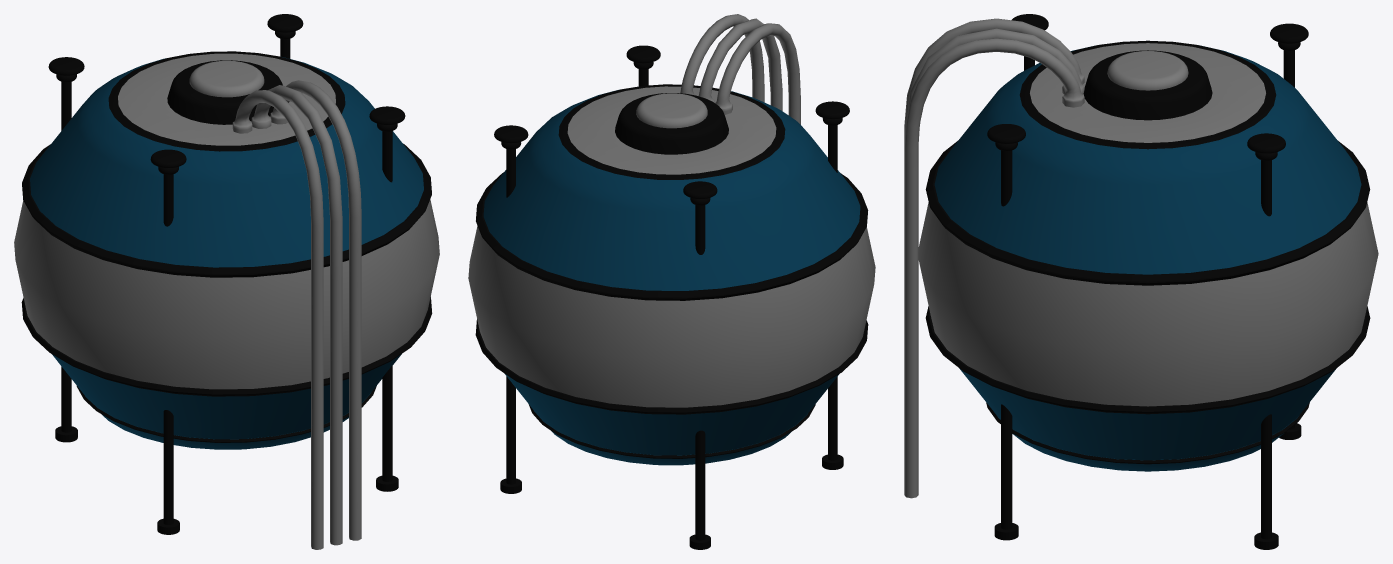
File: water_tower_4.fbx
3 renders of one model, left to right at view 1: azimuth 30°, elevation 25°; view 2: azimuth 150°, elevation 25°; view 3: azimuth 270°, elevation 25°, orthographic. The views are drawn at different scales.
Visible parts, largest first — view 1: Circle.032, BezierCurve.003, Cylinder.011, Cylinder.010; view 2: Circle.032, BezierCurve.003, Cylinder.010, Cylinder.011; view 3: Circle.032, BezierCurve.003, Cylinder.011, Cylinder.010.
Part boxes in pixels (x1,y1,x2,y2): Circle.032: [14, 51, 439, 449]; BezierCurve.003: [232, 80, 361, 549]; Cylinder.011: [48, 57, 405, 491]; Cylinder.010: [150, 14, 303, 534]; Circle.032: [468, 84, 875, 465]; BezierCurve.003: [680, 14, 800, 124]; Cylinder.010: [494, 101, 849, 493]; Cylinder.011: [626, 45, 717, 549]; Circle.032: [918, 40, 1378, 471]; BezierCurve.003: [904, 18, 1084, 498]; Cylinder.011: [987, 23, 1308, 540]; Cylinder.010: [1011, 14, 1285, 549].
Bounding box in the file's own units: 626 × 684 × 644.
